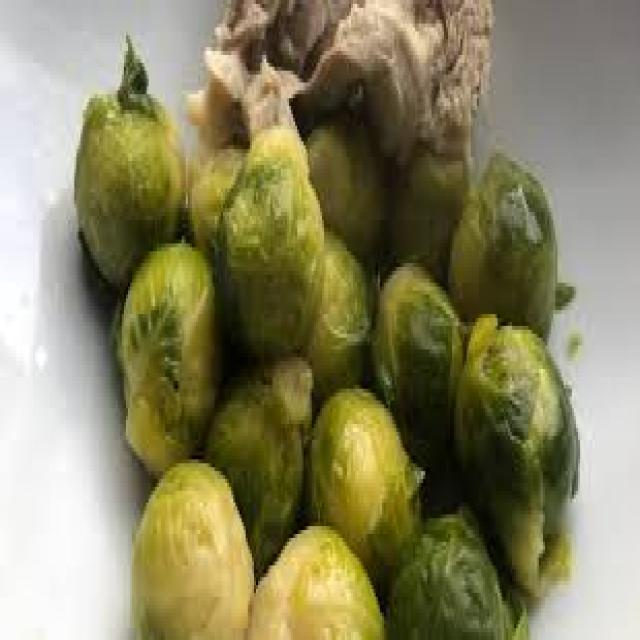choux de bruxelles: (73, 38, 592, 640)
